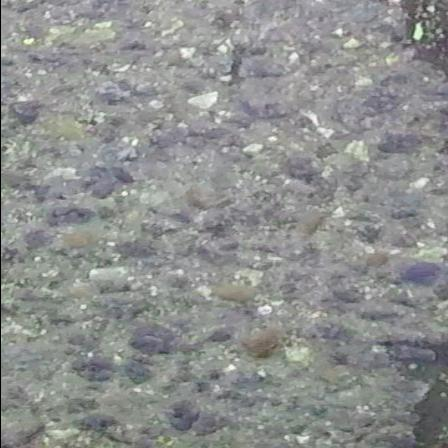spalling: (362, 340, 447, 447), (399, 1, 442, 85)
